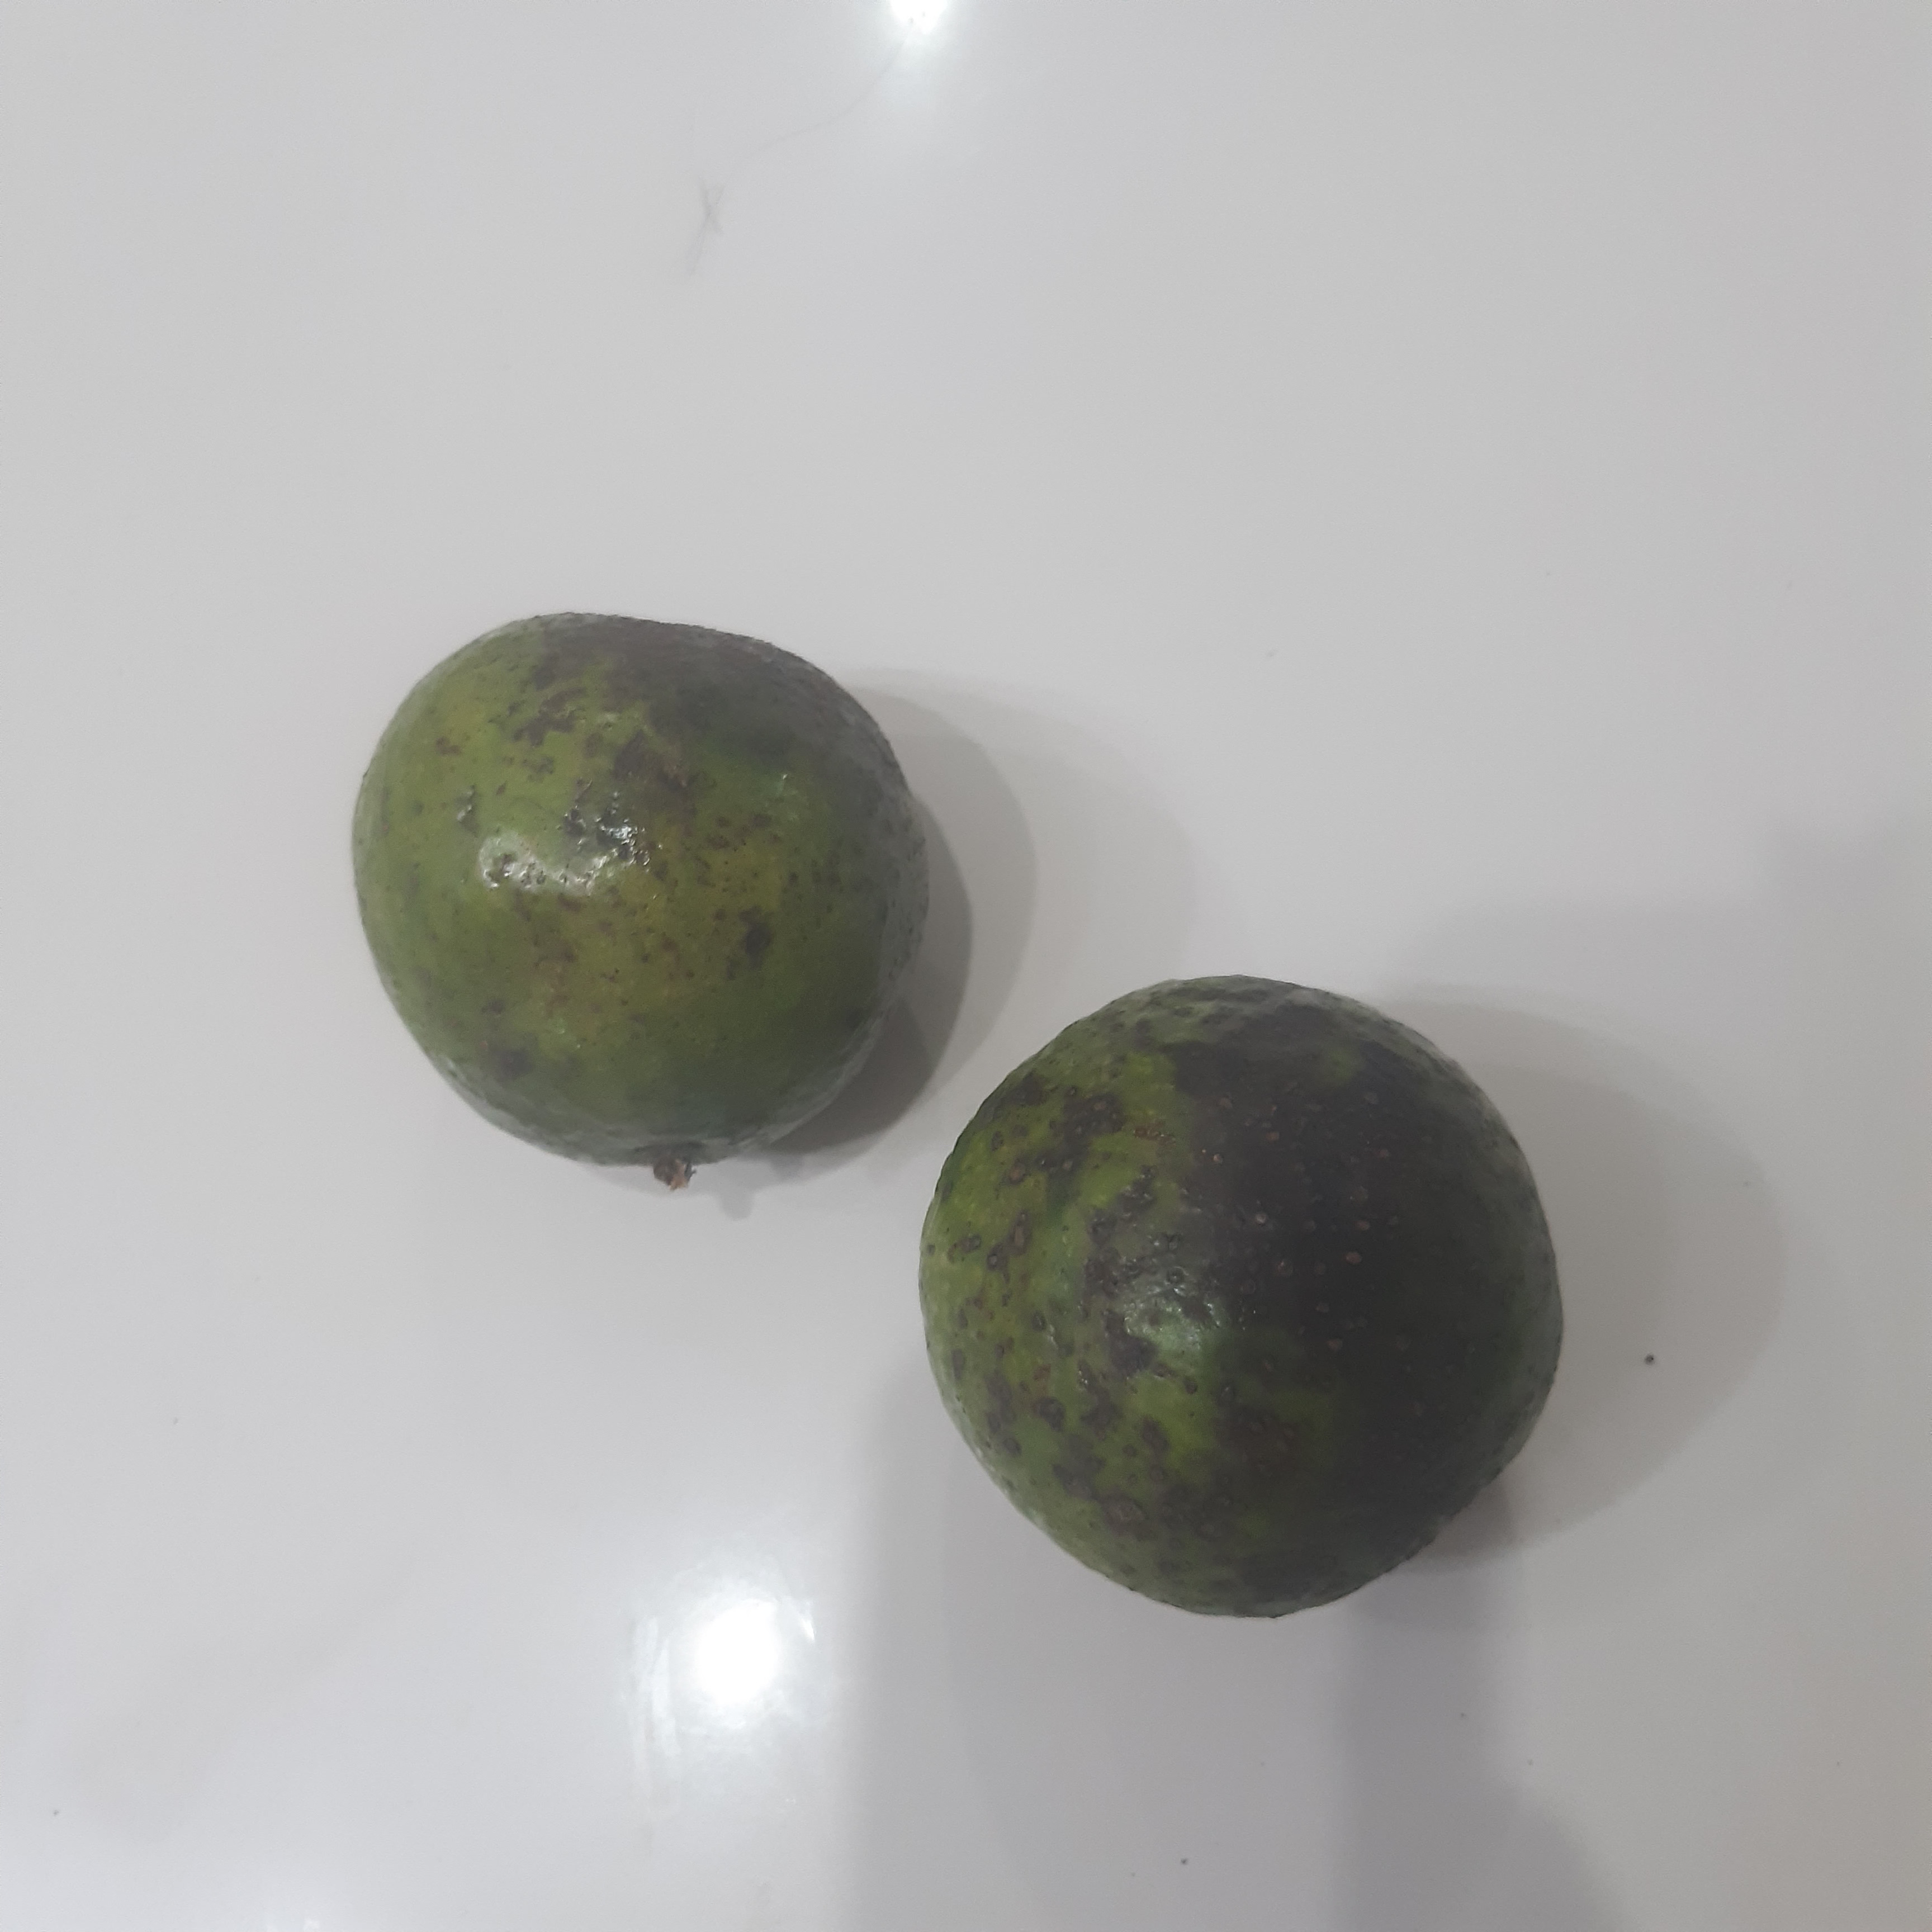Bo: (919, 976, 1566, 1619), (348, 615, 930, 1179)
